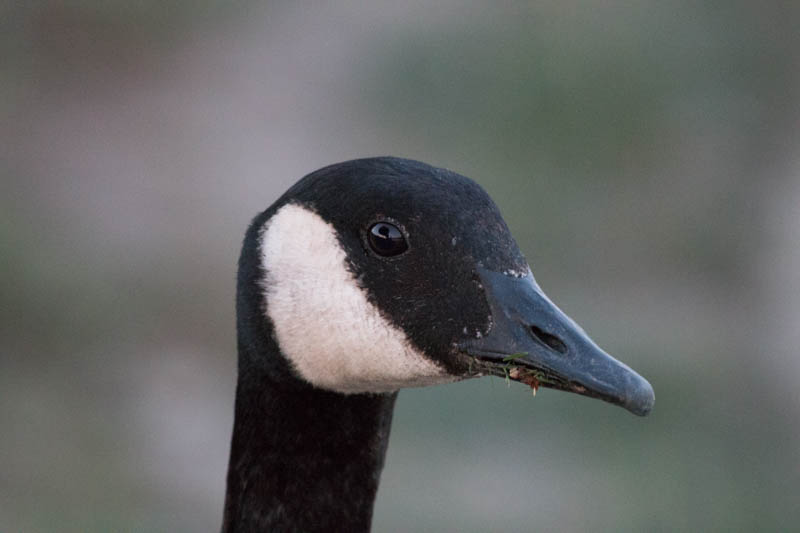goose-head: (236, 157, 656, 419)
